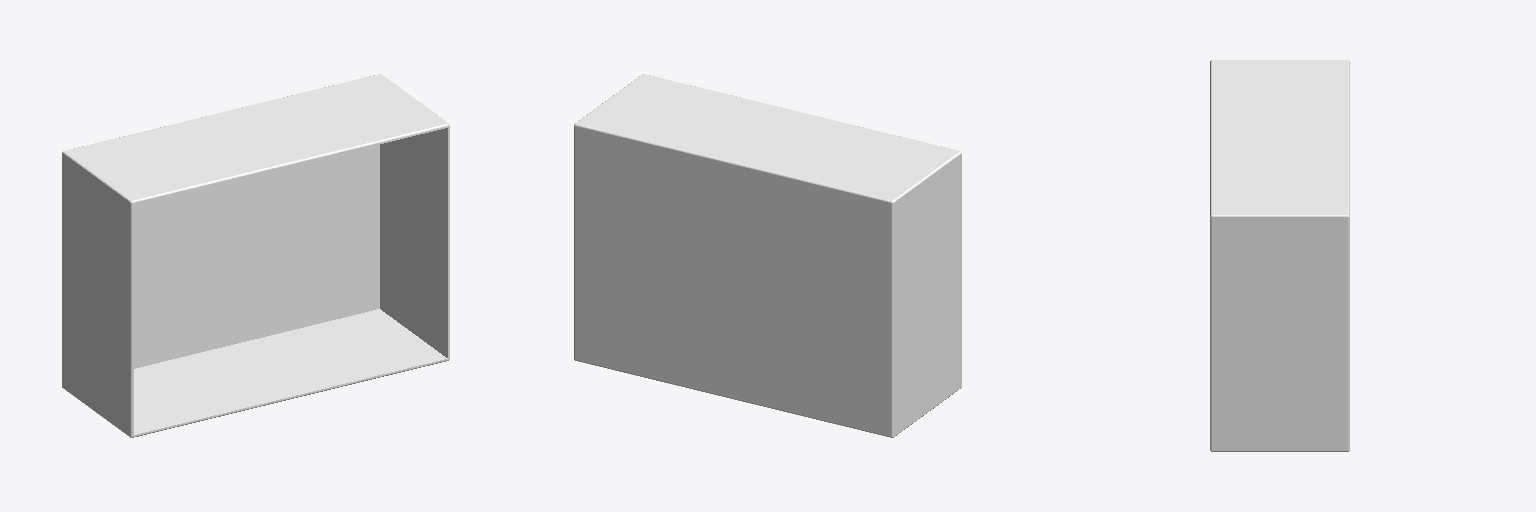
Rendered from drawer_main.obj.
The picture shows the model from 3 angles: view 1: azimuth 30°, elevation 25°; view 2: azimuth 150°, elevation 25°; view 3: azimuth 270°, elevation 25°; orthographic projection.
Bounding box in the file's own units: 0.175 × 0.124 × 0.066.